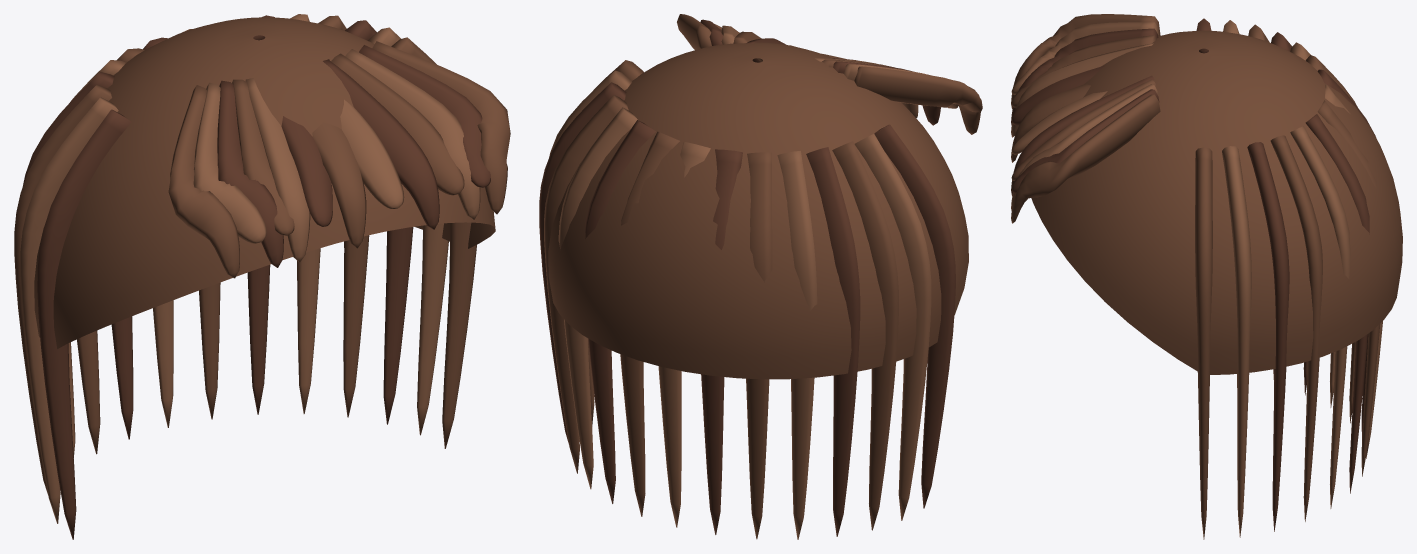
3 views of the same model, side by side, from view 1: azimuth 30°, elevation 25°; view 2: azimuth 150°, elevation 25°; view 3: azimuth 270°, elevation 25° (orthographic). The views are drawn at different scales.
Visible parts, largest first — view 1: Bob; view 2: Bob; view 3: Bob.
Boxes of the visible parts, bbox=[...] form: Bob: bbox=[14, 14, 510, 539]; Bob: bbox=[539, 14, 982, 539]; Bob: bbox=[1011, 14, 1402, 539].
Bounding box in the file's own units: 0.9304 × 0.915 × 0.7972.
